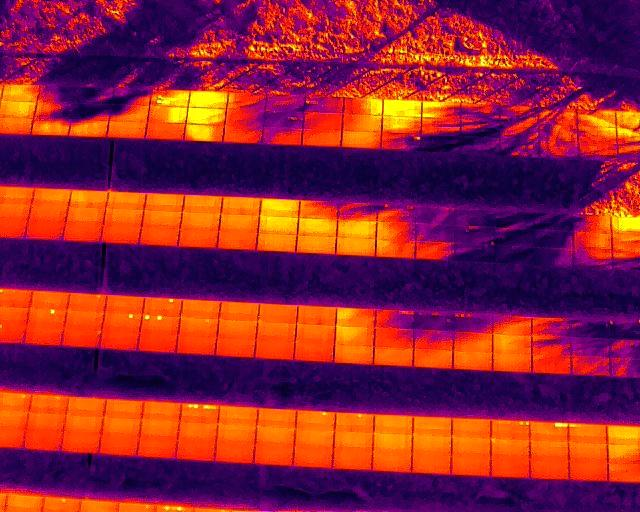Cell: (28, 308, 66, 329), (335, 414, 373, 433), (28, 395, 68, 413), (63, 329, 102, 347), (295, 412, 334, 430), (102, 312, 141, 329), (179, 318, 218, 335), (68, 293, 106, 310), (143, 297, 181, 314), (42, 498, 79, 511)
Cell-Multi: (180, 404, 218, 422), (141, 314, 179, 331), (491, 421, 528, 438), (150, 91, 188, 106)
No-Anomaly: (255, 338, 295, 360), (176, 440, 216, 461), (216, 337, 256, 357), (296, 234, 336, 254), (415, 349, 454, 369), (26, 220, 65, 240), (297, 306, 337, 325), (296, 324, 336, 343), (335, 327, 375, 346), (102, 330, 140, 350), (374, 347, 414, 366), (373, 416, 413, 435), (491, 439, 529, 459), (293, 449, 333, 468), (372, 453, 412, 472), (64, 222, 102, 242), (336, 308, 375, 327), (334, 345, 373, 364), (454, 351, 493, 370), (451, 419, 490, 438), (101, 225, 140, 244), (137, 439, 176, 458), (333, 451, 372, 470), (412, 455, 451, 474), (451, 457, 490, 476), (569, 462, 608, 481), (258, 232, 297, 251), (179, 229, 218, 248), (140, 332, 177, 352), (530, 441, 568, 460), (218, 231, 256, 250), (257, 322, 297, 340), (294, 344, 334, 362), (218, 409, 258, 427), (256, 411, 296, 429), (102, 420, 142, 438), (492, 336, 532, 354), (451, 439, 491, 457), (214, 446, 254, 464), (253, 447, 293, 465), (529, 460, 569, 478), (177, 422, 217, 440), (62, 417, 104, 434), (71, 118, 108, 137), (220, 303, 259, 321), (493, 354, 532, 372), (177, 336, 216, 354), (342, 130, 381, 148), (261, 199, 300, 217), (142, 211, 181, 229), (294, 430, 333, 448), (24, 432, 63, 450), (568, 444, 607, 462), (337, 238, 376, 256), (259, 216, 298, 234), (148, 106, 186, 124), (258, 305, 296, 323), (147, 122, 185, 140), (108, 192, 146, 210), (184, 195, 222, 213), (222, 196, 260, 214), (6, 493, 44, 511), (218, 320, 258, 337), (139, 421, 179, 438), (372, 435, 412, 452), (60, 435, 100, 452), (255, 429, 295, 446), (33, 117, 70, 135), (104, 401, 143, 418), (26, 415, 65, 432), (185, 124, 224, 141), (302, 129, 341, 146), (216, 428, 255, 445), (412, 437, 451, 454), (490, 460, 529, 477), (141, 228, 180, 245), (187, 108, 225, 125), (31, 291, 69, 308), (181, 301, 219, 318), (65, 399, 103, 416), (141, 403, 179, 420), (412, 420, 450, 437), (33, 188, 71, 205), (70, 190, 108, 207), (145, 193, 183, 210), (182, 212, 220, 229), (220, 214, 258, 231), (189, 91, 227, 108), (333, 433, 373, 449), (298, 218, 338, 234), (105, 296, 144, 312), (64, 312, 103, 328), (382, 117, 421, 133), (99, 438, 138, 454), (337, 220, 376, 236), (383, 100, 421, 116), (108, 122, 146, 138), (104, 210, 142, 226), (342, 114, 382, 129), (2, 85, 39, 101), (67, 207, 105, 222), (30, 205, 67, 220), (0, 101, 36, 116), (26, 329, 62, 343)
Shadowing: (537, 106, 578, 128), (533, 247, 573, 268), (454, 312, 493, 333), (572, 249, 612, 269), (376, 309, 416, 329), (576, 108, 616, 128), (533, 229, 573, 249), (415, 221, 455, 241), (572, 229, 612, 249), (416, 308, 454, 329), (376, 239, 414, 260), (571, 316, 611, 335), (300, 199, 338, 219), (532, 209, 572, 228), (456, 223, 494, 243), (572, 337, 611, 356), (532, 317, 571, 336), (532, 355, 571, 374), (381, 132, 420, 151), (338, 201, 377, 220), (572, 212, 611, 231), (536, 126, 577, 144), (265, 91, 305, 109), (375, 329, 415, 347), (571, 356, 611, 374), (39, 84, 79, 102), (415, 242, 455, 260), (495, 208, 532, 227), (71, 102, 110, 120), (492, 317, 531, 335), (532, 336, 571, 354), (461, 119, 500, 137), (454, 205, 493, 223), (576, 127, 617, 144), (415, 330, 453, 348), (109, 103, 147, 121), (225, 126, 263, 144), (263, 127, 301, 145), (377, 202, 415, 220), (264, 110, 304, 127), (578, 145, 618, 162), (495, 245, 532, 263), (226, 109, 265, 126), (415, 204, 454, 221), (376, 221, 415, 238), (228, 91, 266, 108), (454, 333, 492, 350), (456, 244, 494, 261), (303, 113, 343, 129), (461, 137, 501, 153), (495, 228, 532, 245), (462, 102, 501, 118), (421, 135, 460, 151), (422, 102, 462, 117), (304, 97, 344, 112), (422, 117, 462, 132), (344, 99, 383, 114), (36, 101, 72, 117), (110, 89, 151, 103), (80, 88, 110, 101)
Unclassified: (569, 424, 607, 443), (529, 423, 567, 441)
